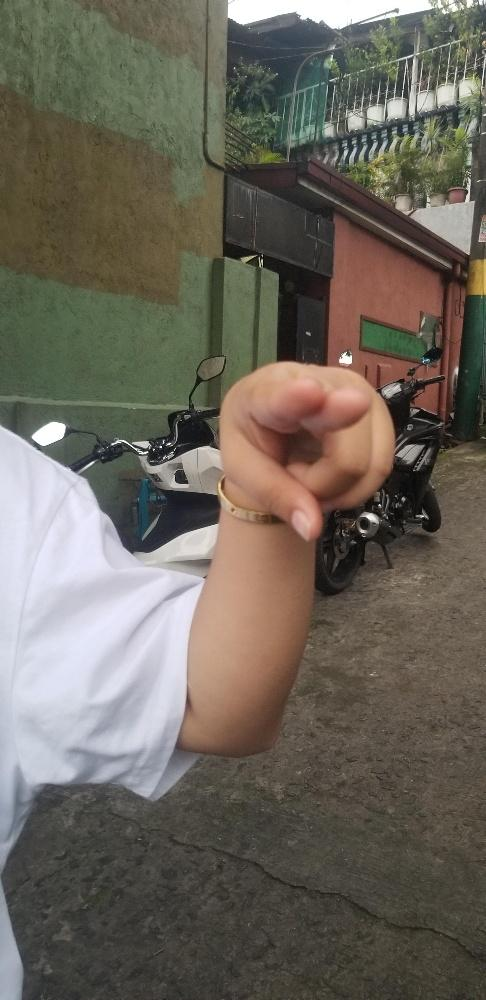n: (217, 360, 396, 544)
